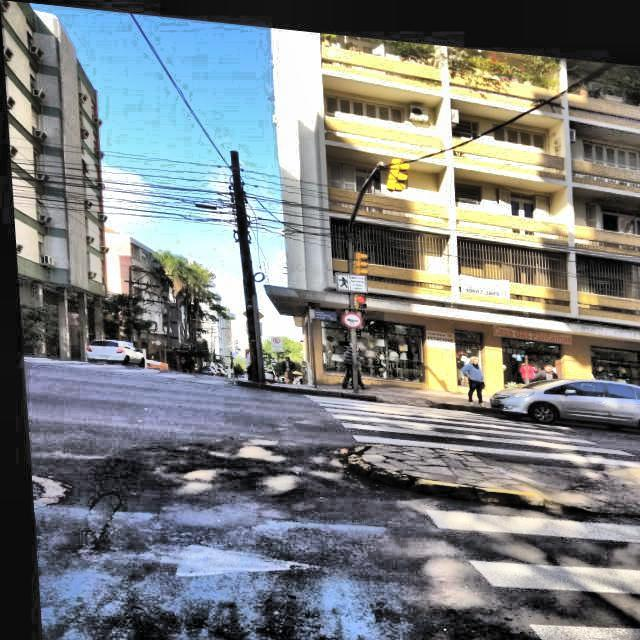faixa de pedestre: (428, 506, 639, 634), (322, 386, 624, 455)
